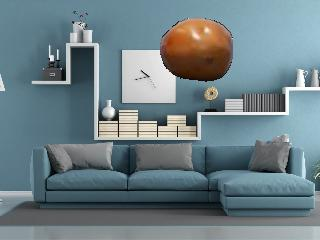potato: (157, 14, 236, 84)
